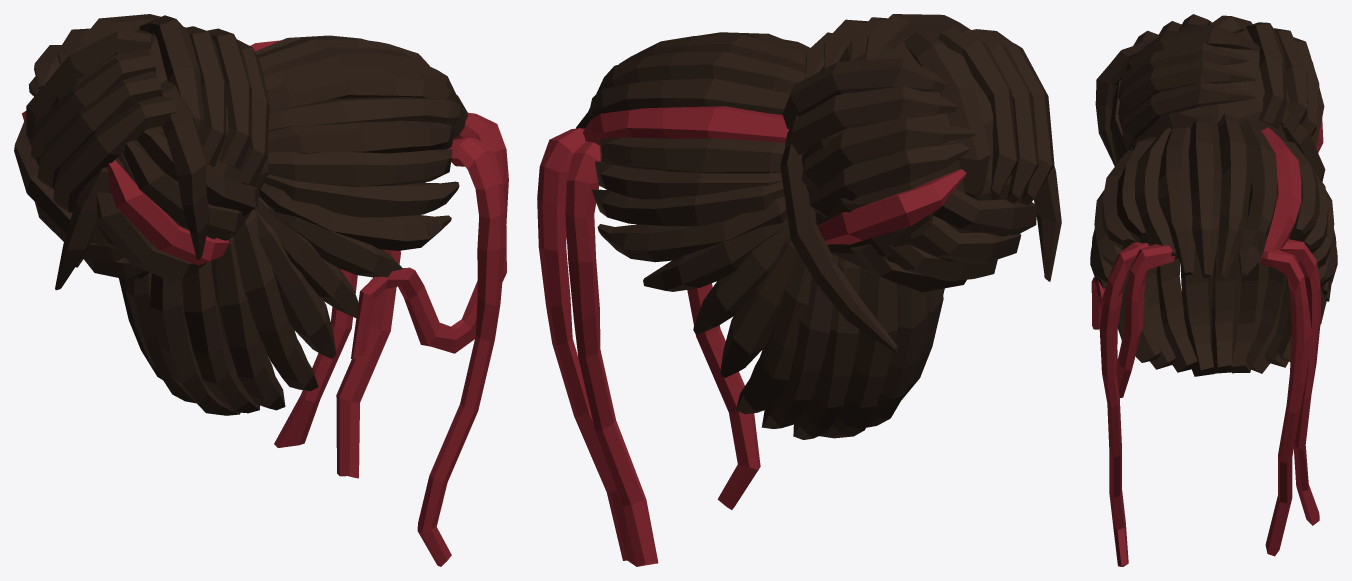
File: Cabelofbx.fbx
The picture shows the model from 3 angles, left to right: view 1: azimuth 30°, elevation 25°; view 2: azimuth 150°, elevation 25°; view 3: azimuth 270°, elevation 25°; orthographic projection. The views are drawn at different scales.
Parts seen in each view (by area): view 1: Cabelo.003; view 2: Cabelo.003; view 3: Cabelo.003.
Boxes of the visible parts, box(x1,y1,x2,y2) form: Cabelo.003: box(14, 14, 508, 566); Cabelo.003: box(537, 14, 1061, 566); Cabelo.003: box(1090, 14, 1337, 566).
Bounding box in the file's own units: 131 × 165 × 81.3.
